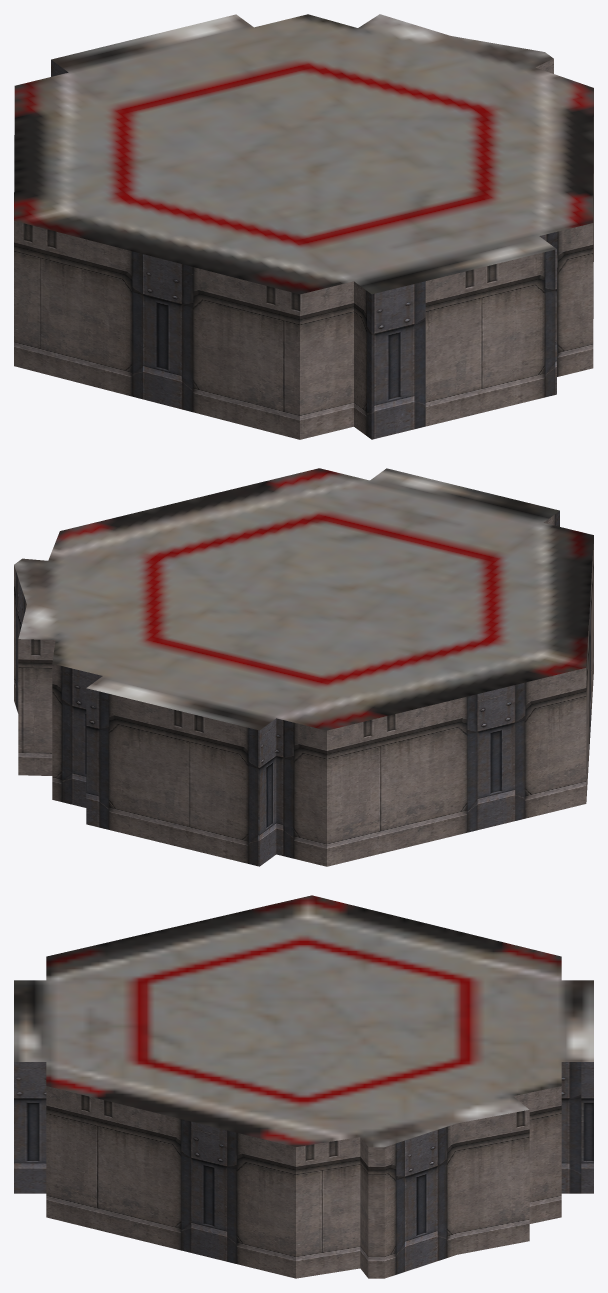
File: bsealed_light_11.glb
3 views of the same model, one above another, from view 1: azimuth 30°, elevation 25°; view 2: azimuth 150°, elevation 25°; view 3: azimuth 270°, elevation 25° (orthographic). The views are drawn at different scales.
Visible parts, largest first — view 1: buildings/saxarba/bsealed_light/bsealed_light_11; view 2: buildings/saxarba/bsealed_light/bsealed_light_11; view 3: buildings/saxarba/bsealed_light/bsealed_light_11.
Part boxes in pixels (x1=…): buildings/saxarba/bsealed_light/bsealed_light_11: x1=14, y1=14, x2=593, y2=439; buildings/saxarba/bsealed_light/bsealed_light_11: x1=14, y1=468, x2=593, y2=866; buildings/saxarba/bsealed_light/bsealed_light_11: x1=14, y1=895, x2=593, y2=1278.
Bounding box in the file's own units: 74 × 18 × 72.
